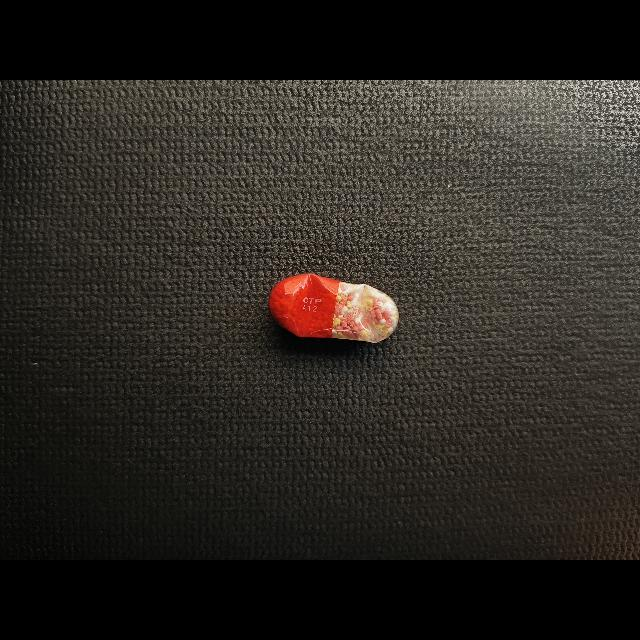Defective Capsule: (269, 273, 399, 343)
